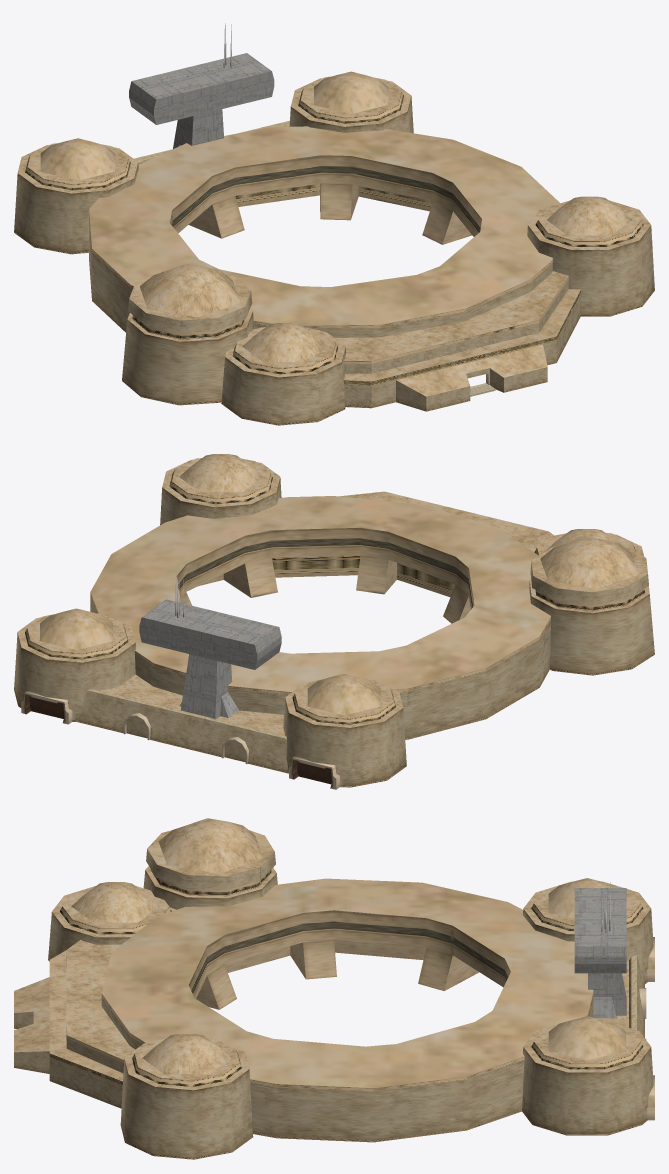
The model's file is mun_tato_starport_s01_u01_r0_mesh_l2.fbx.
3 views of the same model, one above another, from view 1: azimuth 30°, elevation 25°; view 2: azimuth 150°, elevation 25°; view 3: azimuth 270°, elevation 25° (orthographic). The views are drawn at different scales.
Parts seen in each view (by area): view 1: mesh_node; view 2: mesh_node; view 3: mesh_node.
Part boxes in pixels (x1,y1,x2,y2): mesh_node: (14,23,654,425); mesh_node: (14,454,654,789); mesh_node: (14,818,654,1159).
Size of the model in its own units: 150 by 47.84 by 160.
